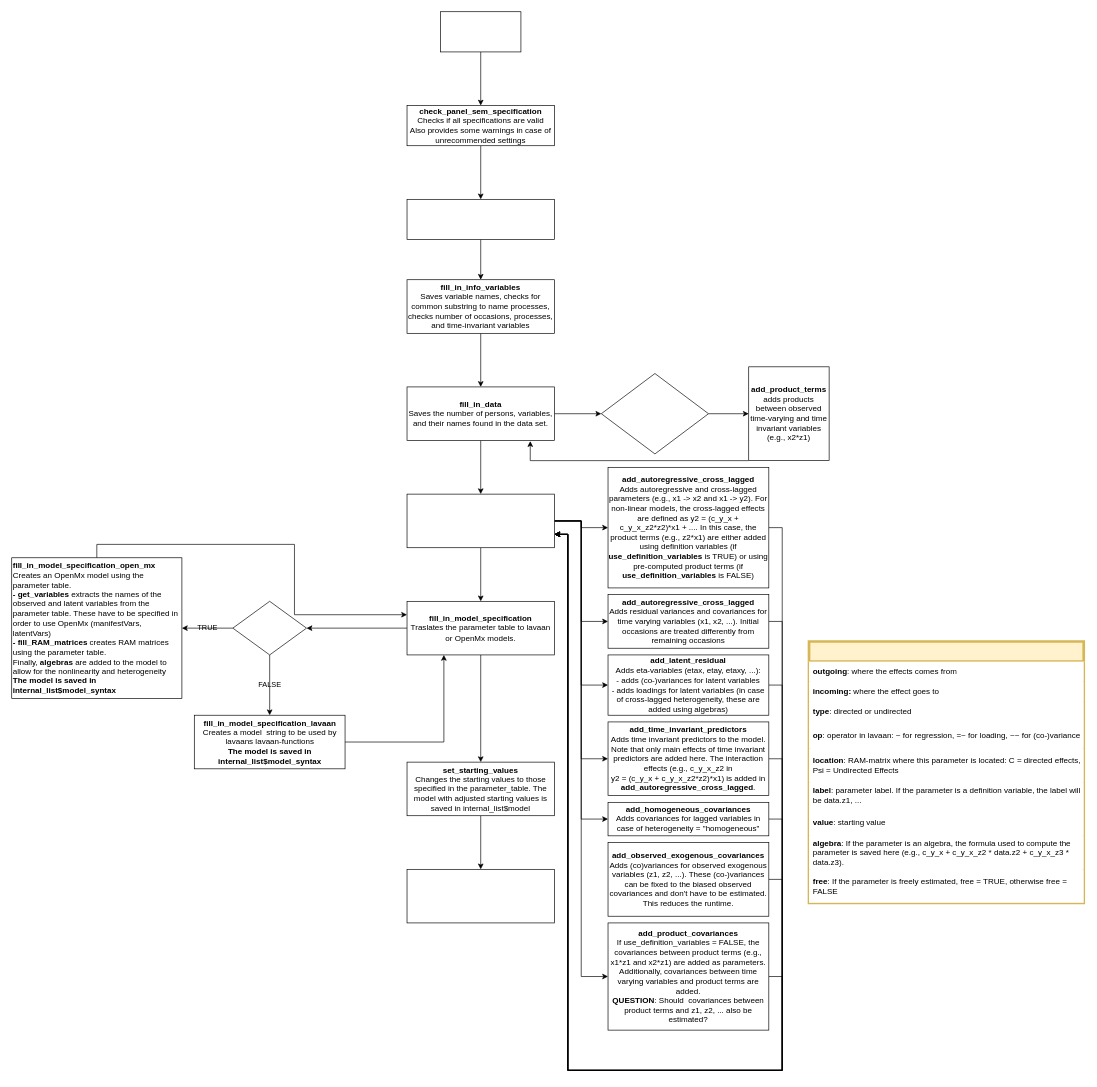
This 1097x1087 diagram has some shape labels left out. The box of each missing label's shape, as (x1, y1, x2, y2) in pixels:
create_empty_list Create template list to be filled by subsequent functions: (406, 199, 554, 240)
fill_in_info_model Creates a parameter table: (406, 493, 554, 548)
fit_panel_sem: (440, 11, 521, 52)
if nonlinear and use_definition_variables is false: (601, 373, 709, 454)
parameter_table: (807, 640, 1085, 904)
RETURN: (406, 869, 554, 923)
use_open_mx: (232, 601, 307, 655)
